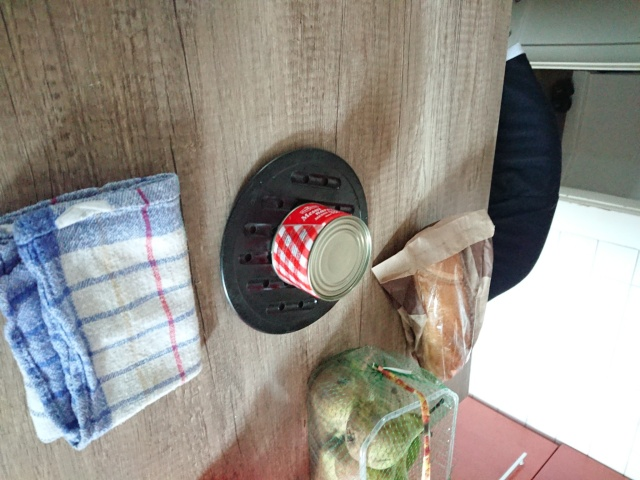Podravka Luncheon Meat 150g: (267, 199, 376, 305)
